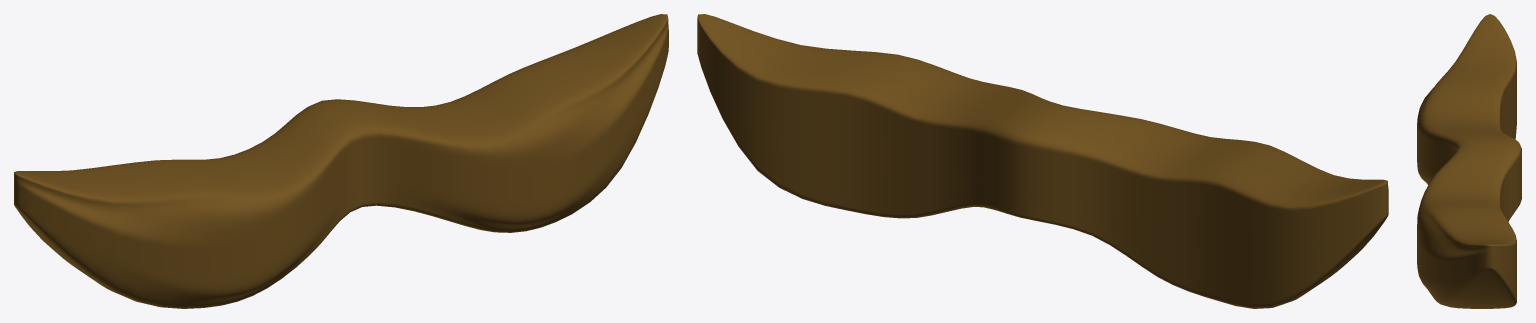
The model's file is mustache.fbx.
3 views of the same model, side by side, from view 1: azimuth 30°, elevation 25°; view 2: azimuth 150°, elevation 25°; view 3: azimuth 270°, elevation 25° (orthographic). The views are drawn at different scales.
Visible parts, largest first — view 1: pPlane1; view 2: pPlane1; view 3: pPlane1.
Part boxes in pixels (x1,y1,x2,y2): pPlane1: [14, 14, 668, 308]; pPlane1: [697, 14, 1388, 308]; pPlane1: [1417, 14, 1521, 308].
Size of the model in its own units: 15.84 by 3.43 by 3.03.
